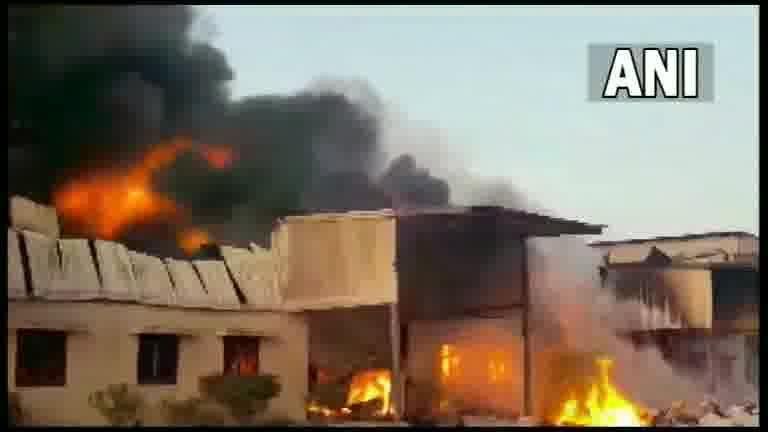fire: (57, 167, 168, 232), (566, 383, 632, 429)
smoke: (16, 10, 204, 133), (238, 116, 369, 203)
